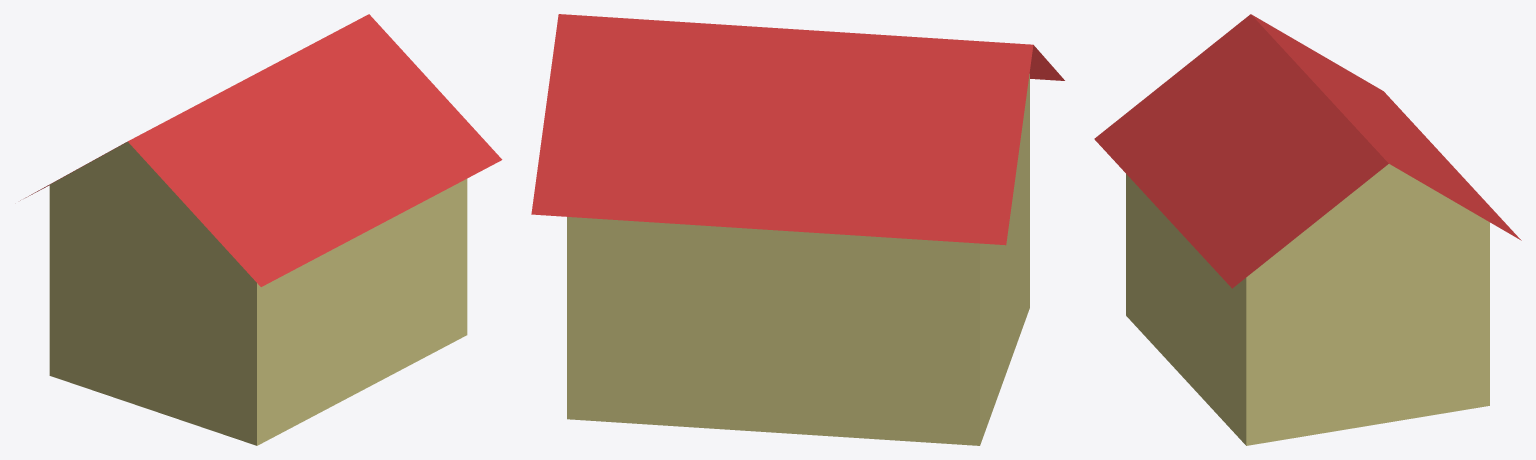
3 renders of one model, left to right at view 1: azimuth 30°, elevation 25°; view 2: azimuth 150°, elevation 25°; view 3: azimuth 270°, elevation 25°, orthographic. The views are drawn at different scales.
Size of the model in its own units: 18.86 by 17.27 by 12.02.
